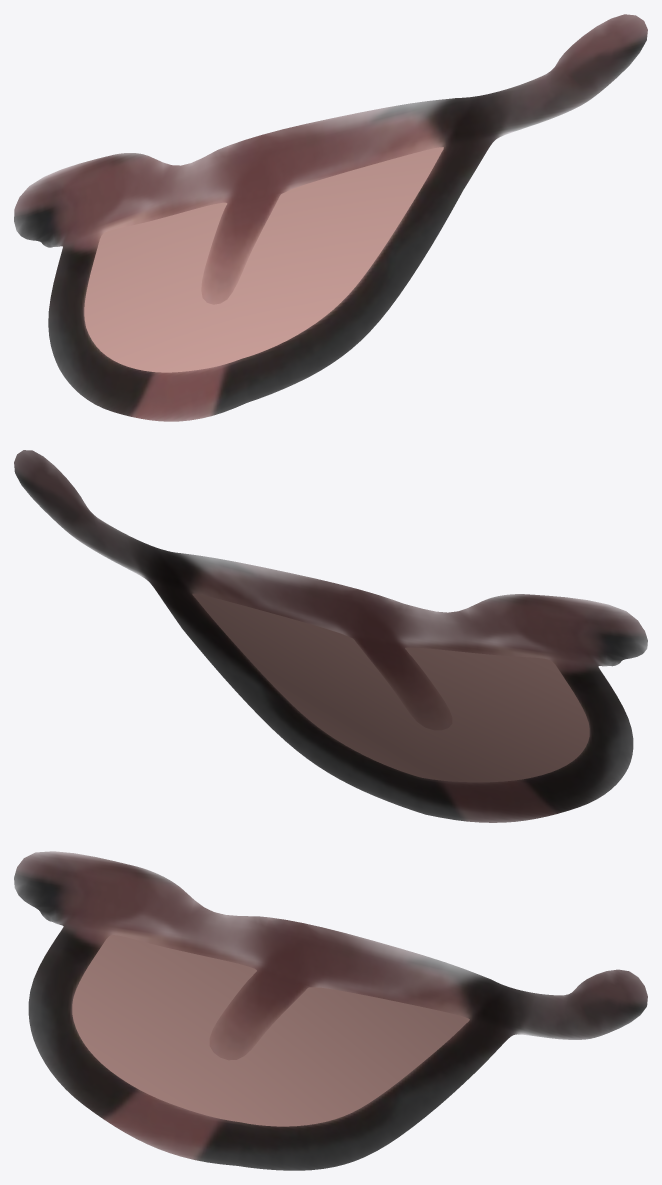
Rendered from 21-Silly-mouth.glb.
The picture shows the model from 3 angles, top to bottom: view 1: azimuth 30°, elevation 25°; view 2: azimuth 150°, elevation 25°; view 3: azimuth 330°, elevation 25°; orthographic projection. The views are drawn at different scales.
Visible parts, largest first — view 1: 21-Silly-mouth; view 2: 21-Silly-mouth; view 3: 21-Silly-mouth.
Part boxes in pixels (bbox=[...]): 21-Silly-mouth: bbox=[14, 14, 647, 421]; 21-Silly-mouth: bbox=[14, 450, 647, 822]; 21-Silly-mouth: bbox=[14, 851, 647, 1170].
Size of the model in its own units: 0.2822 by 0.1205 by 0.0287.
Materials: 1 (1 with a texture image).
